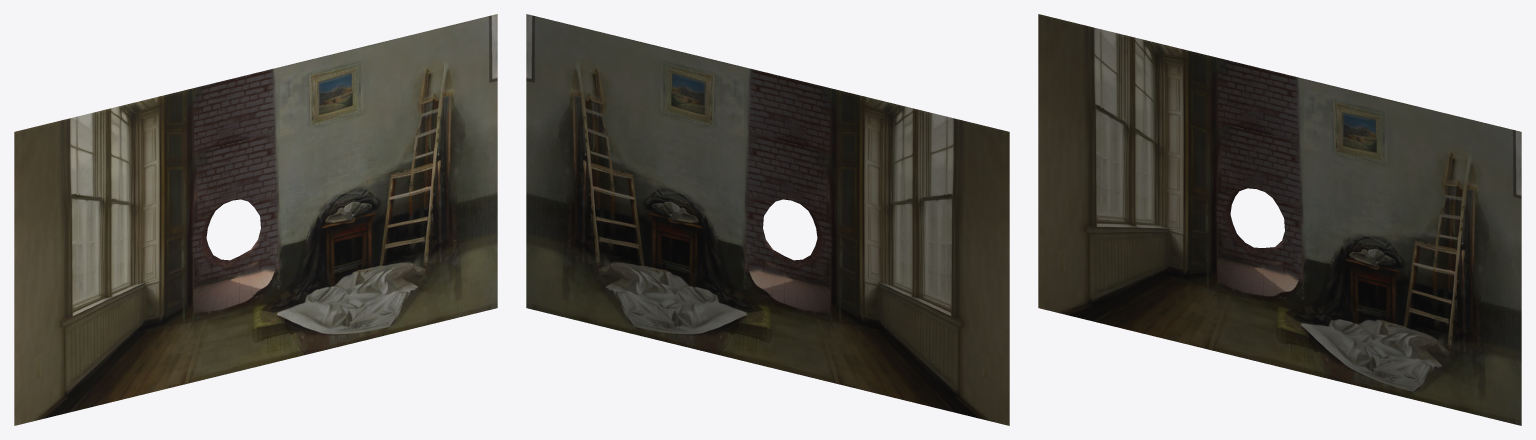
Rendered from bkg.fbx.
3 views of the same model, side by side, from view 1: azimuth 30°, elevation 25°; view 2: azimuth 150°, elevation 25°; view 3: azimuth 330°, elevation 25° (orthographic).
Parts seen in each view (by area): view 1: back3; view 2: back3; view 3: back3.
Boxes of the visible parts, left/top/right/bottom form: back3: left=14, top=14, right=497, bottom=425; back3: left=526, top=14, right=1009, bottom=425; back3: left=1038, top=14, right=1521, bottom=425.
Bounding box in the file's own units: 1.73e-05 × 100 × 172.
